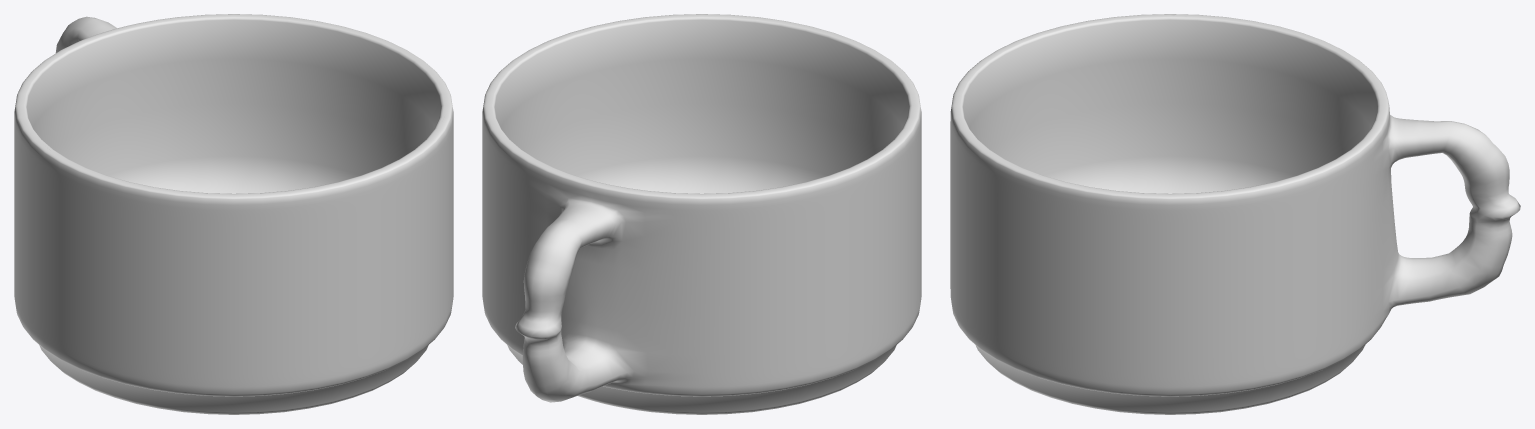
The model's file is Mug2Vol1.fbx.
The picture shows the model from 3 angles, left to right: view 1: azimuth 30°, elevation 25°; view 2: azimuth 150°, elevation 25°; view 3: azimuth 270°, elevation 25°; orthographic projection.
Visible parts, largest first — view 1: Mug2Vol1; view 2: Mug2Vol1; view 3: Mug2Vol1.
Part boxes in pixels (x1=…): Mug2Vol1: x1=14, y1=14, x2=453, y2=414; Mug2Vol1: x1=482, y1=14, x2=921, y2=414; Mug2Vol1: x1=950, y1=14, x2=1520, y2=414.
Bounding box in the file's own units: 43.43 × 24.92 × 56.32.
